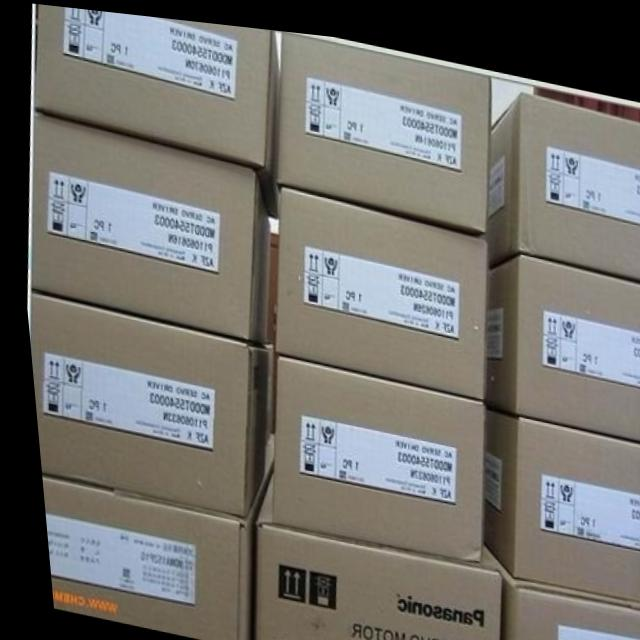box: (24, 110, 267, 337), (23, 289, 261, 513), (31, 3, 279, 211), (33, 429, 266, 640), (268, 180, 483, 390), (261, 349, 477, 556), (272, 25, 491, 227), (242, 467, 491, 640), (475, 396, 640, 589), (476, 244, 640, 428), (481, 81, 640, 266), (475, 532, 640, 640), (258, 336, 266, 441)
